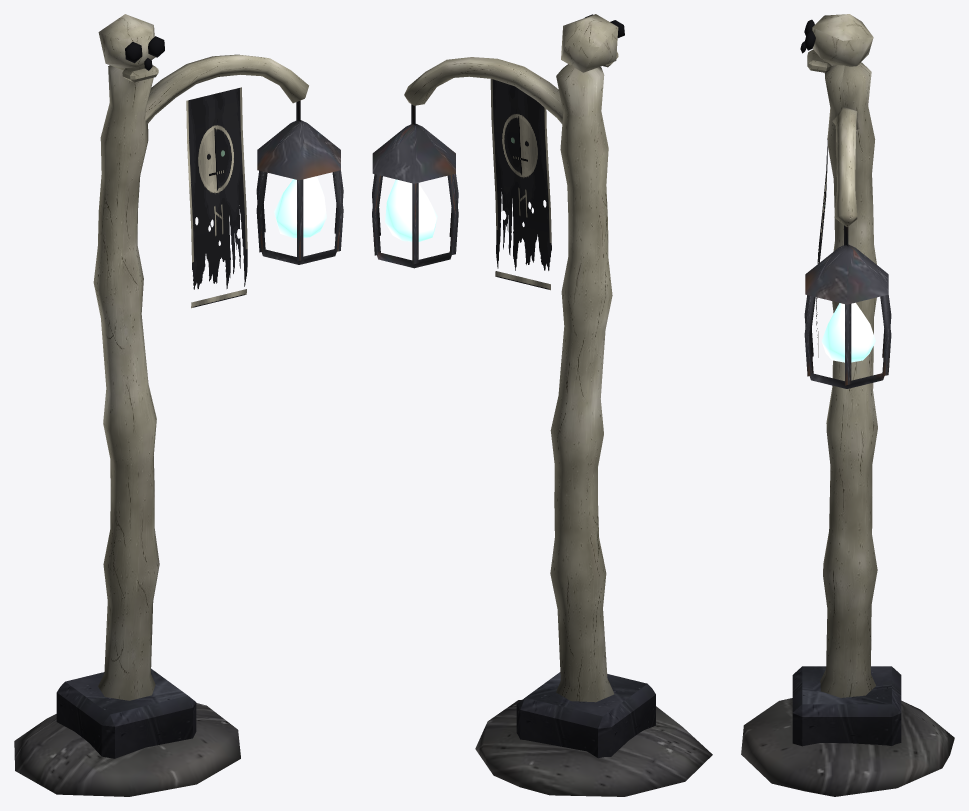
The model's file is helheim_soul_lantern.glb.
3 renders of one model, left to right at view 1: azimuth 30°, elevation 25°; view 2: azimuth 150°, elevation 25°; view 3: azimuth 270°, elevation 25°, orthographic.
Parts seen in each view (by area): view 1: helheim_soul_lantern; view 2: helheim_soul_lantern; view 3: helheim_soul_lantern.
Boxes of the visible parts, x1=… form: helheim_soul_lantern: x1=14, y1=14, x2=343, y2=796; helheim_soul_lantern: x1=372, y1=14, x2=712, y2=796; helheim_soul_lantern: x1=741, y1=14, x2=954, y2=796.
Size of the model in its own units: 1.15 by 2.53 by 0.6675.
7 materials, 5 textured.
